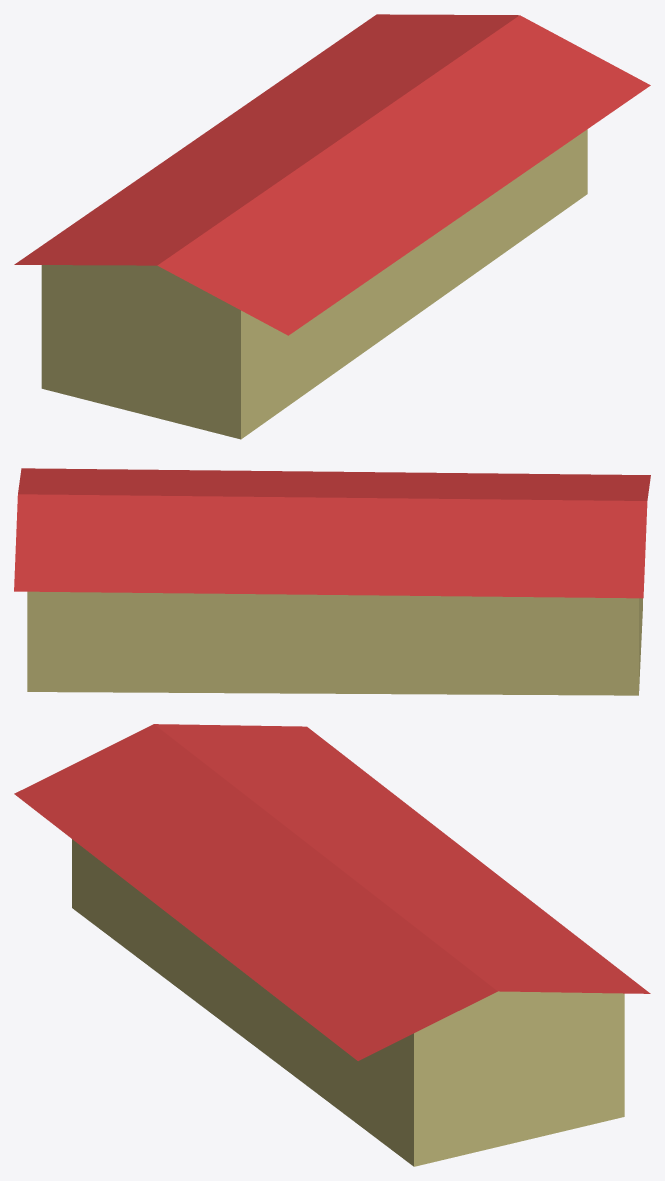
3 views of the same model, one above another, from view 1: azimuth 30°, elevation 25°; view 2: azimuth 150°, elevation 25°; view 3: azimuth 270°, elevation 25° (orthographic). The views are drawn at different scales.
Bounding box in the file's own units: 46.84 × 37.68 × 10.55.
